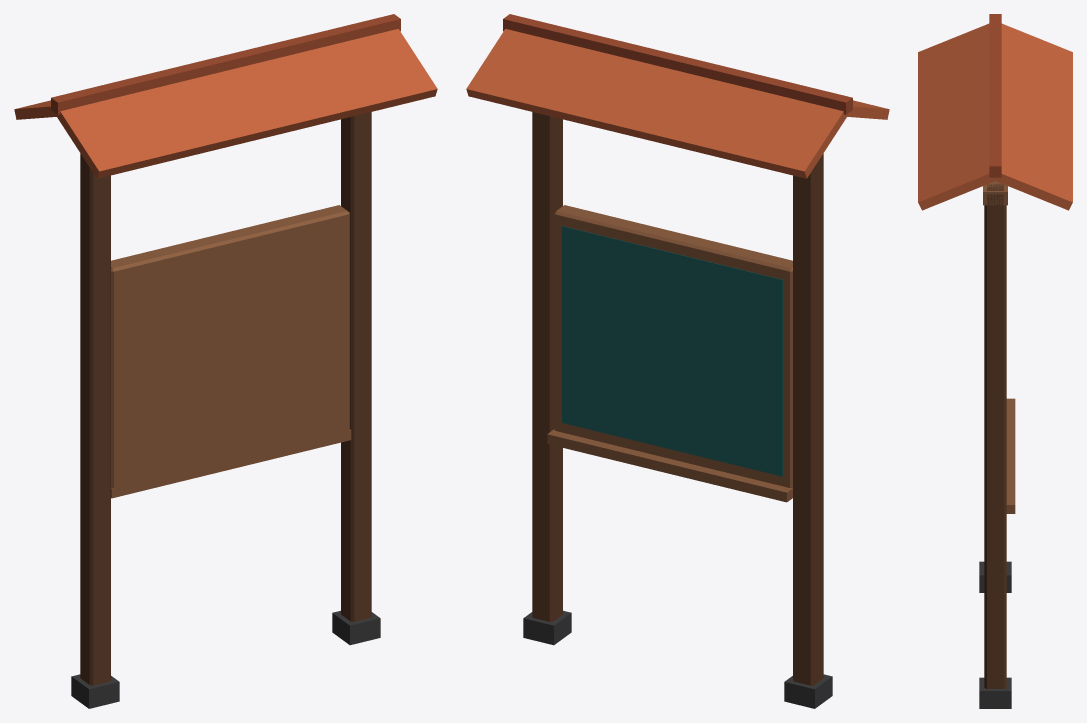
Rendered from noticeboard.glb.
3 renders of one model, left to right at view 1: azimuth 30°, elevation 25°; view 2: azimuth 150°, elevation 25°; view 3: azimuth 270°, elevation 25°, orthographic. The views are drawn at different scales.
Visible parts, largest first — view 1: body; view 2: body; view 3: body.
Part boxes in pixels (x1,y1,x2,y2): body: (14,14,437,708); body: (466,14,889,708); body: (918,14,1072,708).
Bounding box in the file's own units: 1.46 × 2.48 × 0.6269.
